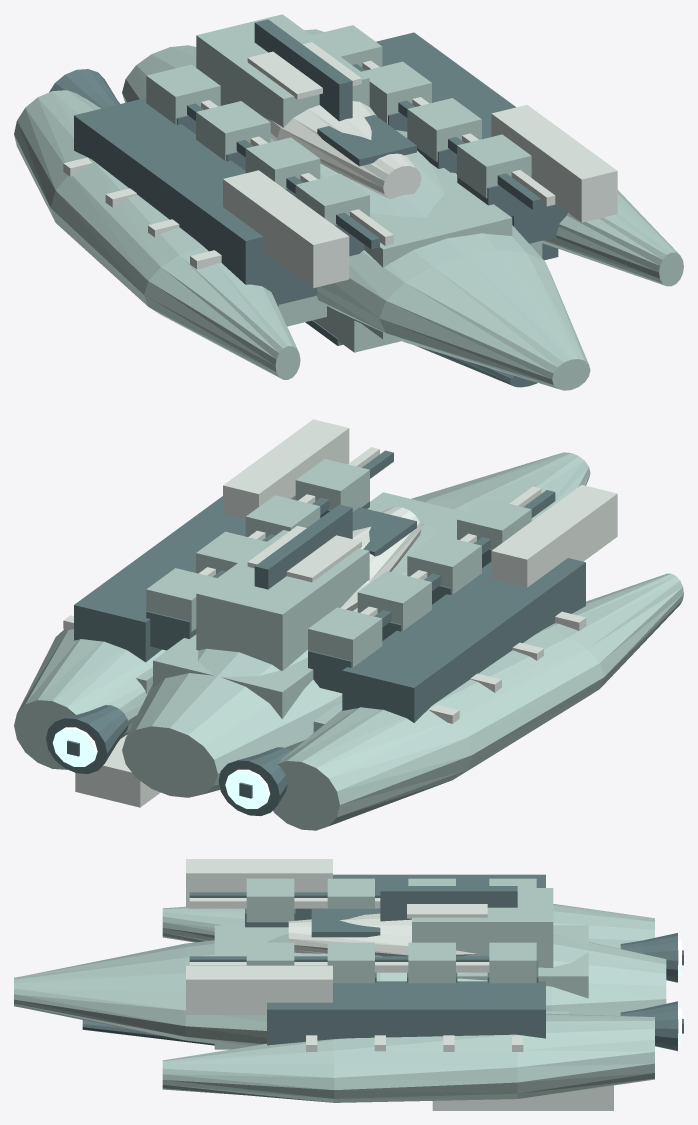
The picture shows the model from 3 angles, top to bottom: view 1: azimuth 30°, elevation 25°; view 2: azimuth 150°, elevation 25°; view 3: azimuth 270°, elevation 25°; orthographic projection. The views are drawn at different scales.
Bounding box in the file's own units: 17.09 × 7.5 × 26.51.
